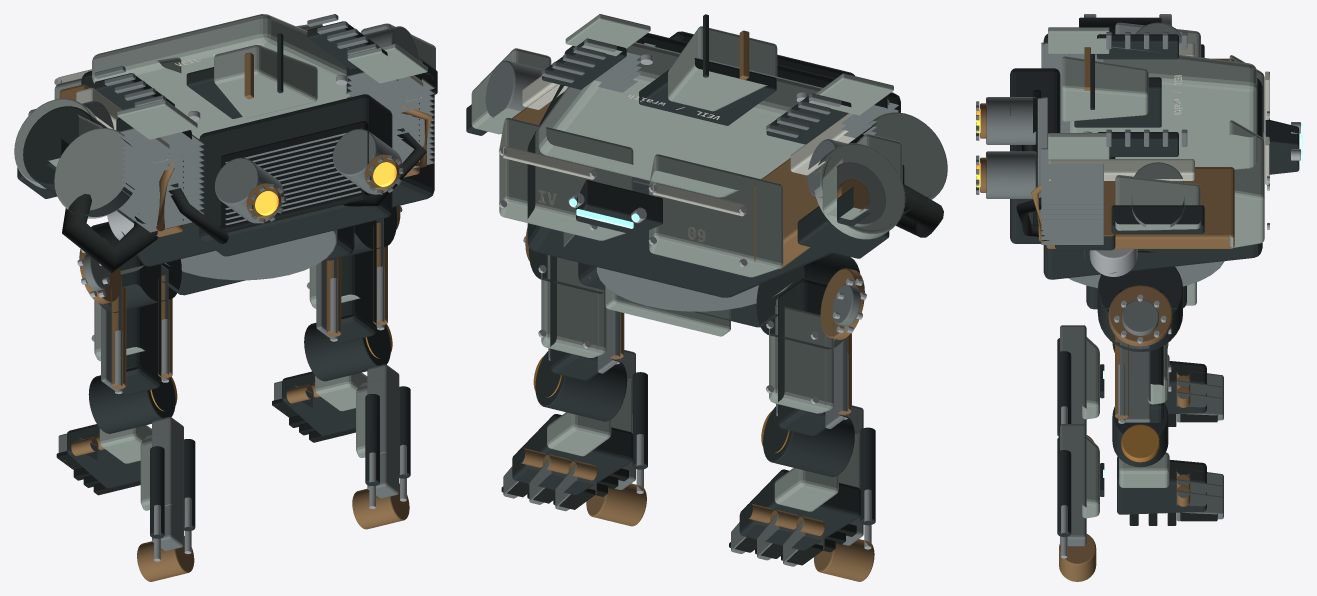
Rendered from wraith.glb.
3 renders of one model, left to right at view 1: azimuth 30°, elevation 25°; view 2: azimuth 150°, elevation 25°; view 3: azimuth 270°, elevation 25°, orthographic. The views are drawn at different scales.
Parts seen in each view (by area): view 1: torso, reactor, ammo, thigh_L0, thigh_R0, radiator_L, shin_L0, shin_R0, radiator_R, spine, pelvis, foot_L0 (+6 smaller); view 2: torso, thigh_L0, ammo, armor_front_L, thigh_R0, armor_front_R, foot_R0, foot_L0, pelvis, spine, hip_L0, shin_L0 (+8 smaller); view 3: torso, reactor, radiator_R, thigh_R0, foot_R0, hip_R0, shin_R0, hardpoint_R, spine, shin_L0, foot_L0, armor_front_R (+6 smaller).
Boxes of the visible parts, x1,y1,x2,y2 form: torso: [59, 14, 434, 266]; reactor: [199, 94, 403, 256]; ammo: [14, 98, 157, 273]; thigh_L0: [88, 255, 177, 433]; thigh_R0: [304, 218, 392, 381]; radiator_L: [116, 100, 204, 232]; shin_L0: [137, 417, 195, 581]; shin_R0: [352, 364, 410, 529]; radiator_R: [346, 43, 434, 169]; spine: [214, 33, 317, 118]; pelvis: [161, 225, 354, 295]; foot_L0: [56, 424, 151, 495]; torso: [504, 33, 900, 297]; thigh_L0: [761, 279, 854, 477]; ammo: [797, 112, 947, 258]; armor_front_L: [648, 154, 783, 277]; thigh_R0: [533, 255, 627, 421]; armor_front_R: [499, 117, 633, 240]; foot_R0: [501, 412, 633, 511]; foot_L0: [729, 468, 860, 566]; pelvis: [578, 188, 792, 336]; spine: [668, 14, 777, 111]; hip_L0: [756, 253, 866, 349]; shin_L0: [814, 405, 875, 581]; torso: [1016, 32, 1262, 279]; reactor: [976, 68, 1060, 243]; radiator_R: [1031, 133, 1115, 250]; thigh_R0: [1112, 289, 1171, 467]; foot_R0: [1117, 452, 1223, 525]; hip_R0: [1097, 250, 1182, 351]; shin_R0: [1057, 424, 1104, 581]; hardpoint_R: [1111, 162, 1204, 233]; spine: [1062, 47, 1148, 121]; shin_L0: [1057, 325, 1104, 441]; foot_L0: [1164, 354, 1223, 426]; armor_front_R: [1229, 120, 1269, 247].
Size of the model in its own units: 3.4 by 4.18 by 2.6.
